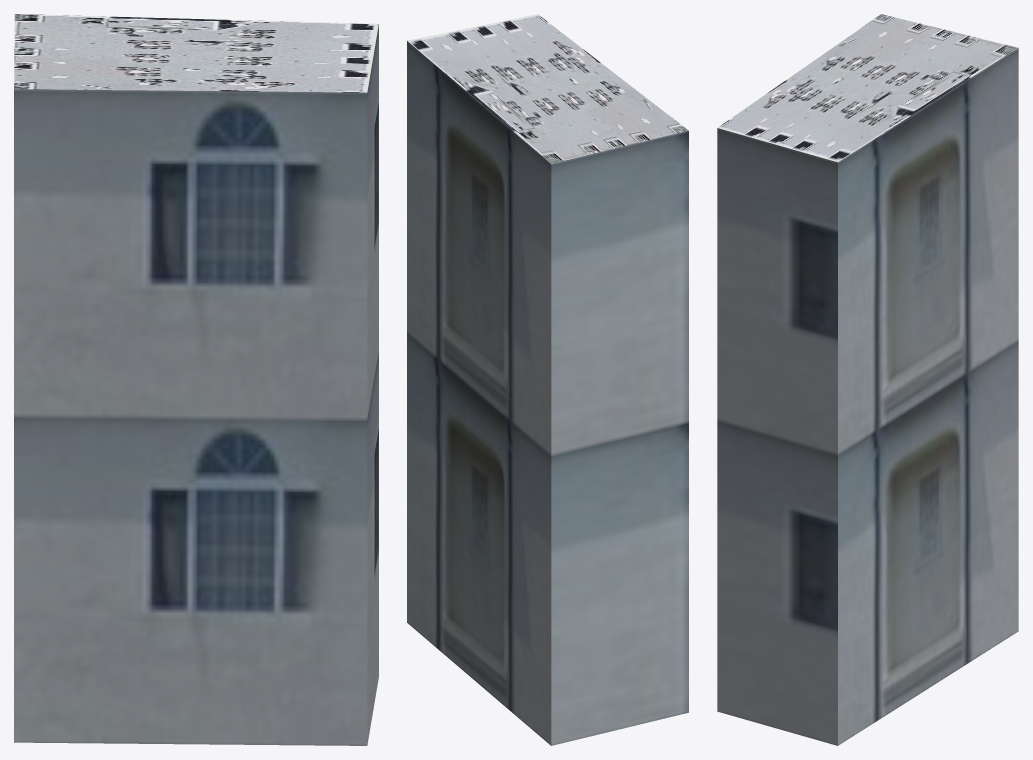
Rendered from ResTex__3433.fbx.
3 views of the same model, side by side, from view 1: azimuth 30°, elevation 25°; view 2: azimuth 150°, elevation 25°; view 3: azimuth 270°, elevation 25° (orthographic). The views are drawn at different scales.
Visible parts, largest first — view 1: CityEngineMaterial_17_m, CityEngineMaterial_4_m; view 2: CityEngineMaterial_17_m, CityEngineMaterial_4_m; view 3: CityEngineMaterial_17_m, CityEngineMaterial_4_m.
Boxes of the visible parts, bbox=[...] form: CityEngineMaterial_17_m: bbox=[14, 24, 378, 745]; CityEngineMaterial_4_m: bbox=[14, 14, 378, 92]; CityEngineMaterial_17_m: bbox=[407, 41, 688, 745]; CityEngineMaterial_4_m: bbox=[407, 14, 688, 163]; CityEngineMaterial_17_m: bbox=[717, 48, 1018, 745]; CityEngineMaterial_4_m: bbox=[718, 14, 1018, 162].
Size of the model in its own units: 3.27 by 6 by 2.81.
2 materials, 2 textured.
